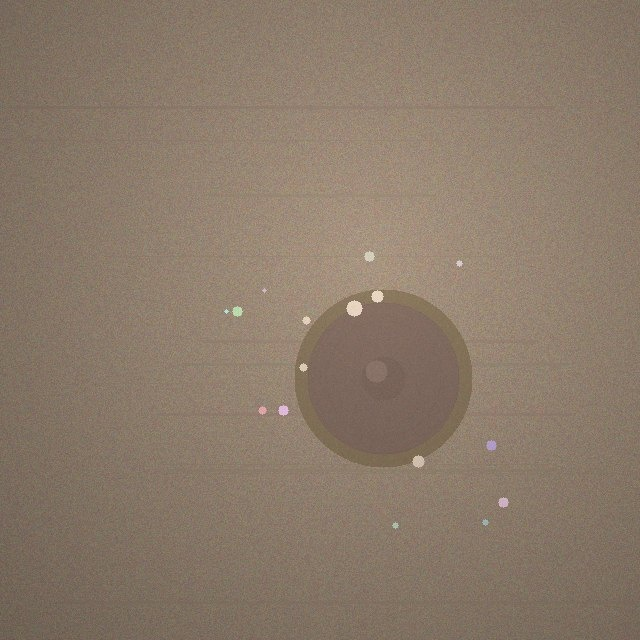overburn: (294, 289, 472, 467)
